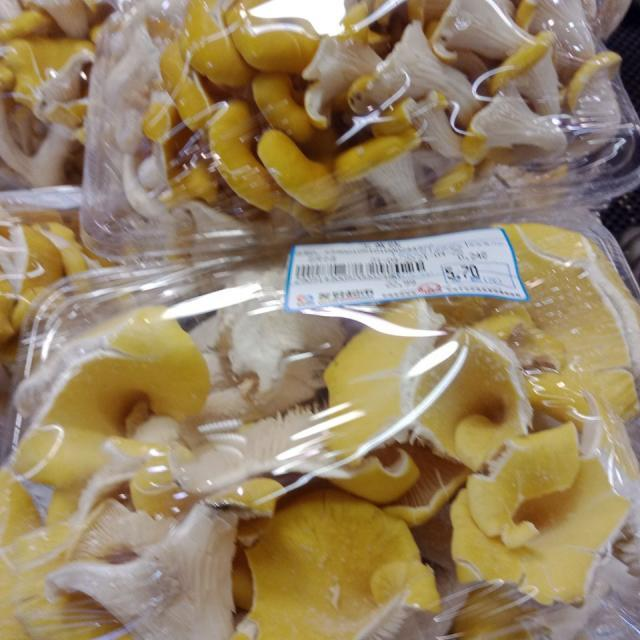Pleurotus citrinopileatus: (3, 239, 640, 640), (117, 0, 623, 235)
